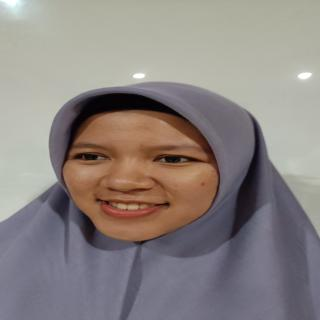Senang: (57, 99, 225, 247)
